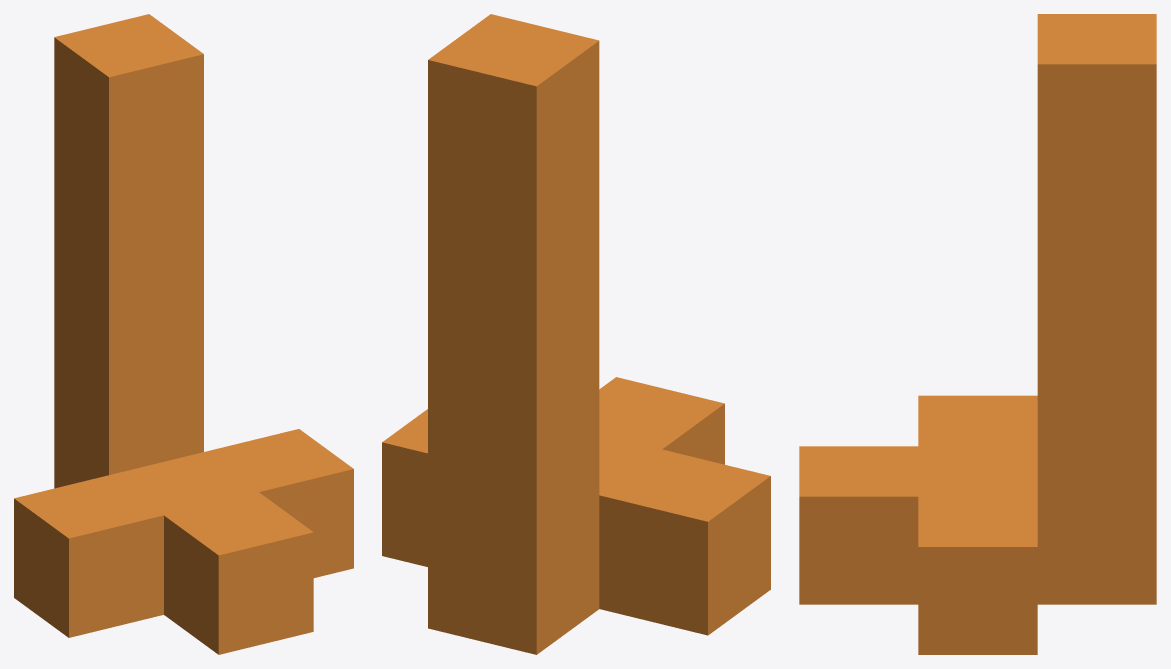
File: chicken__leg_l.glb
3 views of the same model, side by side, from view 1: azimuth 30°, elevation 25°; view 2: azimuth 150°, elevation 25°; view 3: azimuth 270°, elevation 25° (orthographic). The views are drawn at different scales.
Visible parts, largest first — view 1: chicken__leg_l; view 2: chicken__leg_l; view 3: chicken__leg_l.
Part boxes in pixels (<box>): chicken__leg_l: <box>14,14,353,654</box>; chicken__leg_l: <box>382,14,770,654</box>; chicken__leg_l: <box>799,14,1156,654</box>.
Bounding box in the file's own units: 0.3 × 0.5 × 0.3.
1 material, 1 textured.
